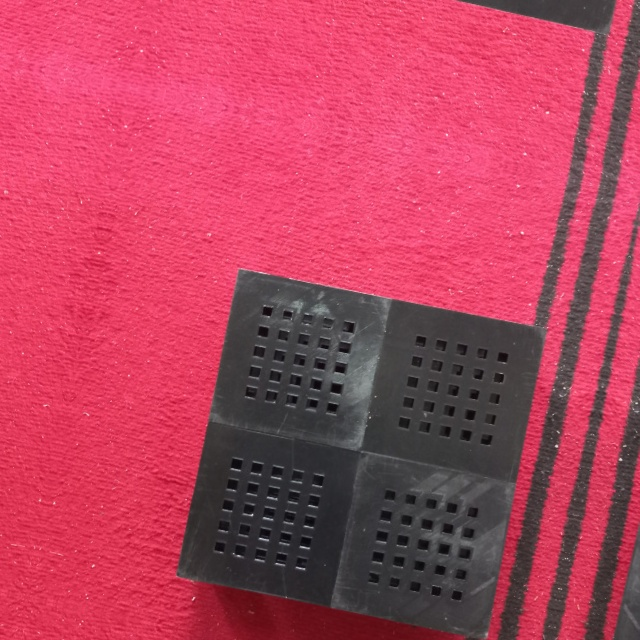pallet: (171, 256, 561, 637)
